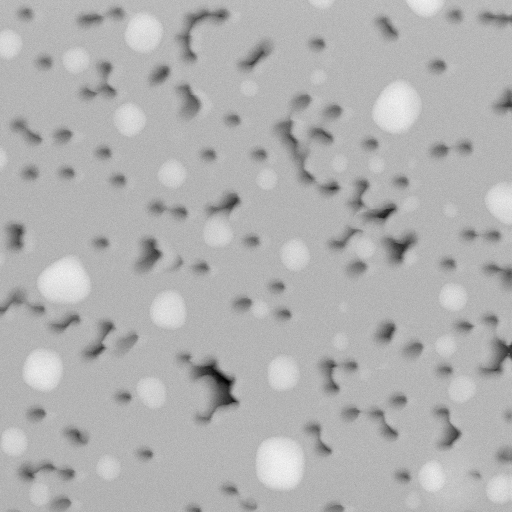Hole: (177, 346, 249, 426), (337, 393, 418, 441), (273, 92, 344, 146), (178, 8, 226, 66), (479, 304, 511, 380), (85, 317, 138, 360), (128, 233, 169, 280), (75, 61, 120, 103), (316, 352, 357, 396), (229, 34, 271, 74), (429, 405, 463, 453), (1, 286, 46, 321), (289, 138, 318, 188), (214, 479, 259, 511), (16, 461, 80, 483), (267, 277, 296, 325), (62, 413, 95, 451), (305, 417, 337, 456), (69, 4, 128, 25), (8, 113, 43, 148), (429, 138, 484, 160), (145, 197, 193, 222), (381, 227, 415, 260), (178, 80, 206, 120), (206, 192, 247, 218), (473, 5, 511, 33), (459, 225, 507, 247), (368, 311, 399, 345), (475, 255, 511, 282), (5, 211, 28, 251), (484, 80, 511, 114), (133, 443, 166, 469), (370, 13, 399, 42), (421, 50, 448, 81), (361, 198, 395, 222), (47, 311, 84, 333), (143, 62, 173, 89), (398, 333, 425, 360), (347, 178, 369, 211), (23, 401, 54, 424), (54, 155, 81, 181), (484, 441, 511, 467), (193, 141, 222, 165), (183, 255, 214, 277), (87, 228, 113, 254), (50, 123, 76, 148), (226, 288, 250, 314), (326, 224, 348, 252), (435, 248, 460, 271), (16, 157, 42, 179), (320, 176, 342, 202), (218, 105, 241, 129), (245, 143, 272, 163), (105, 166, 127, 190), (108, 385, 132, 407), (317, 498, 355, 511), (13, 3, 40, 21), (346, 262, 369, 283), (169, 248, 186, 275), (94, 140, 114, 162), (390, 464, 412, 484), (304, 31, 326, 51), (29, 51, 51, 70), (446, 5, 464, 26), (393, 172, 412, 191), (241, 231, 261, 249), (360, 133, 382, 149), (453, 319, 478, 333), (176, 498, 202, 511), (498, 405, 511, 427), (433, 362, 452, 377), (465, 468, 484, 482)
Particle: (249, 433, 310, 490), (31, 253, 97, 305), (370, 80, 428, 135), (14, 344, 73, 391), (274, 232, 317, 277), (110, 99, 152, 141), (125, 8, 165, 52), (475, 179, 511, 227), (146, 288, 189, 328), (265, 352, 303, 395), (153, 151, 191, 192), (134, 371, 174, 409), (435, 276, 472, 314), (54, 41, 93, 74), (92, 450, 128, 483), (201, 214, 234, 250), (0, 421, 31, 457), (413, 461, 450, 490), (446, 373, 480, 402), (484, 471, 511, 504), (0, 27, 26, 61), (404, 0, 447, 19), (432, 332, 461, 357), (252, 168, 282, 192), (354, 232, 377, 261), (26, 481, 53, 503), (330, 326, 352, 353), (237, 75, 261, 99), (328, 151, 351, 175), (400, 491, 428, 510), (436, 199, 458, 222), (401, 194, 423, 216), (249, 298, 270, 321), (304, 0, 339, 13), (309, 69, 332, 88), (367, 155, 388, 174), (405, 155, 423, 171), (0, 144, 8, 176), (335, 298, 350, 315)
Smear: (357, 359, 395, 379)
